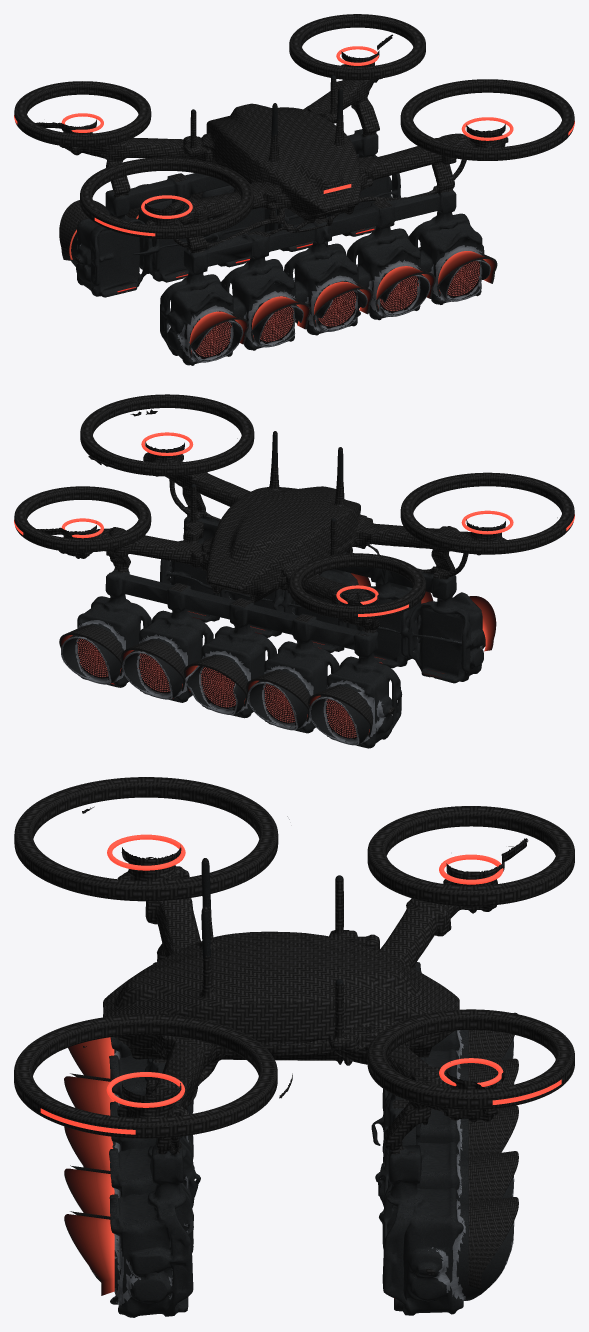
File: marshal-drone.glb
The picture shows the model from 3 angles, top to bottom: view 1: azimuth 30°, elevation 25°; view 2: azimuth 150°, elevation 25°; view 3: azimuth 270°, elevation 25°; orthographic projection. The views are drawn at different scales.
Parts seen in each view (by area): view 1: drone-body; view 2: drone-body; view 3: drone-body.
Boxes of the visible parts, <box> form: drone-body: <box>14,14,574,365</box>; drone-body: <box>14,394,574,748</box>; drone-body: <box>14,777,574,1317</box>.
Size of the model in its own units: 1.89 by 0.8295 by 1.28.
18 materials, 17 textured.
